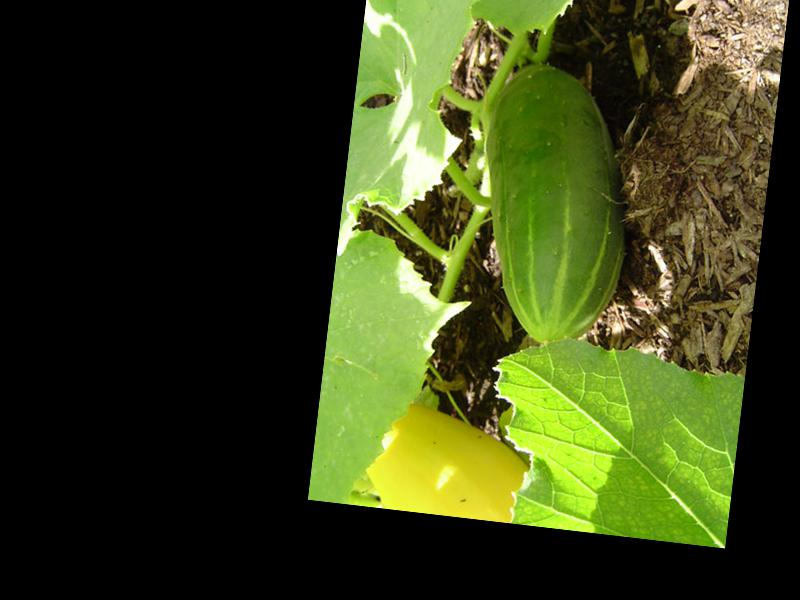Cucumber: (462, 57, 646, 352)
